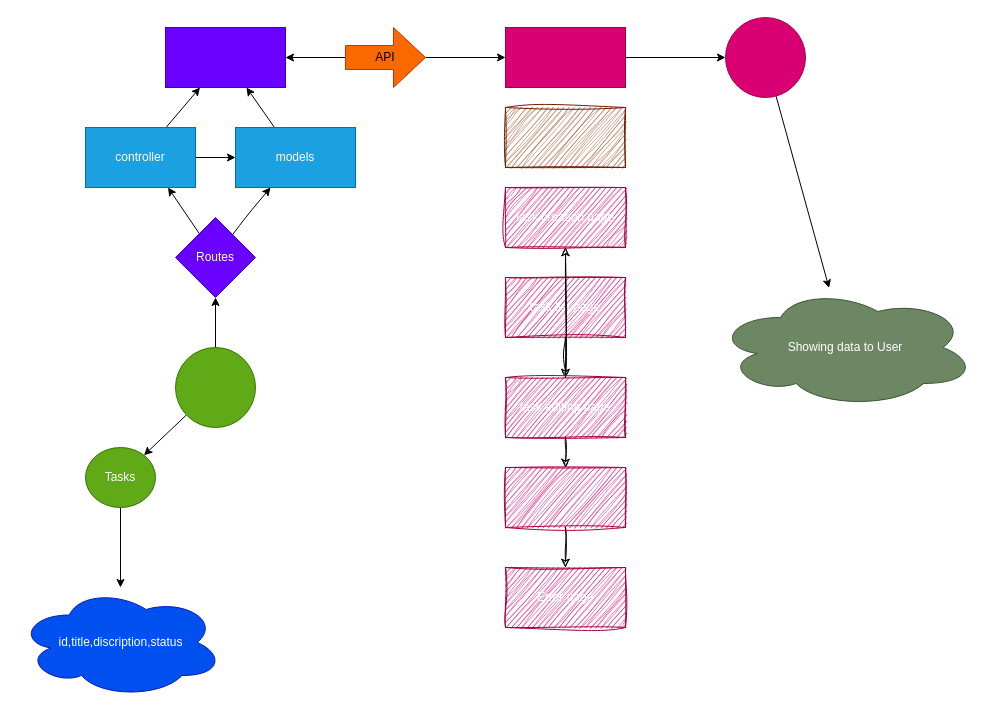
Image size: 993x715. Some labels were removed from this diagram. Here are the shapes that lost their labels. From the top down, the box of each, then its label:
(164, 26, 286, 88): Backend
(504, 26, 626, 88): front-end
(724, 16, 806, 98): App
(504, 106, 626, 168): Login page
(174, 346, 256, 428): DataBase
(504, 466, 626, 528): Nav bar
